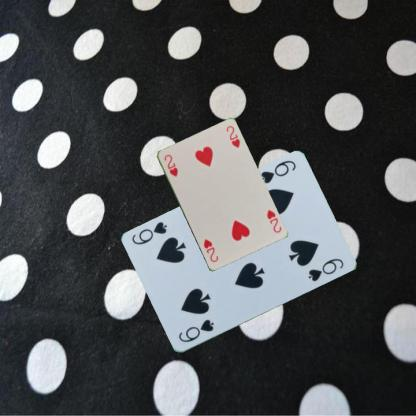2h: (264, 207, 283, 234), (161, 152, 179, 178)
6s: (176, 316, 216, 344), (258, 158, 297, 185)
